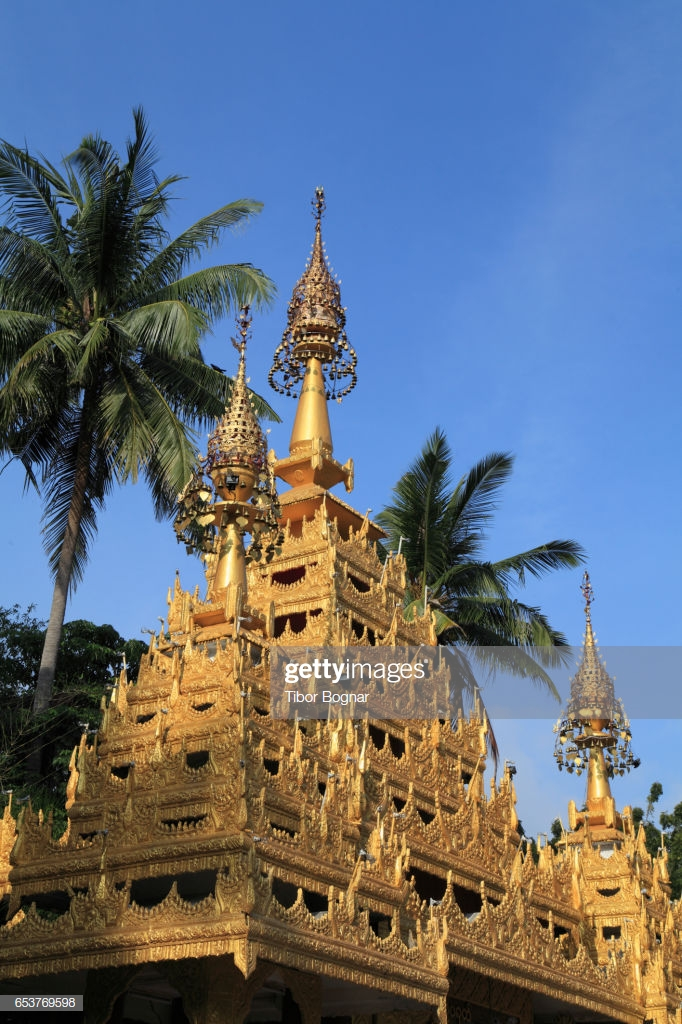Buddhist Temple: (81, 192, 622, 995)
